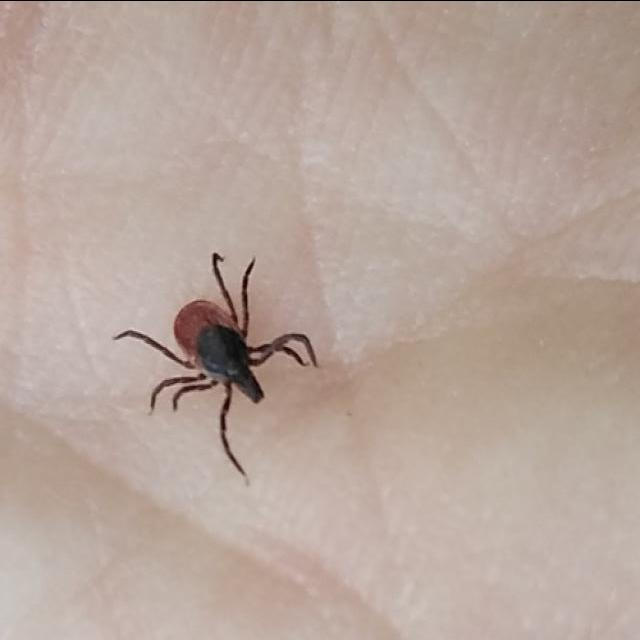Ixodes Ricinus-F: (122, 251, 319, 479)
